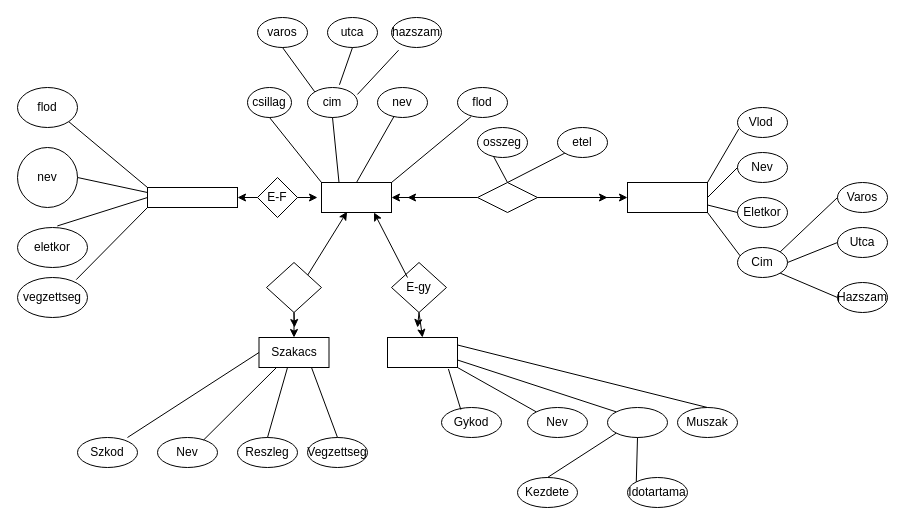
The diagram is 905 pixels wide and 525 high, and some of its shapes have lost their labels. The centre of each missing label's shape, as x and y in pixels:
"E-sz" belongs at pixel 294 287.
"Etterem" belongs at pixel 356 197.
"foszakacs" belongs at pixel 192 197.
"Gyakorlat" belongs at pixel 637 422.
"Gyakornok" belongs at pixel 422 352.
"Rendelés" belongs at pixel 507 197.
"vendeg" belongs at pixel 667 197.
